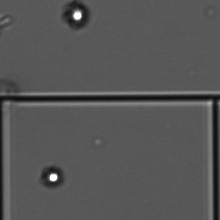Living Cell: (64, 1, 89, 30), (39, 163, 64, 188)
